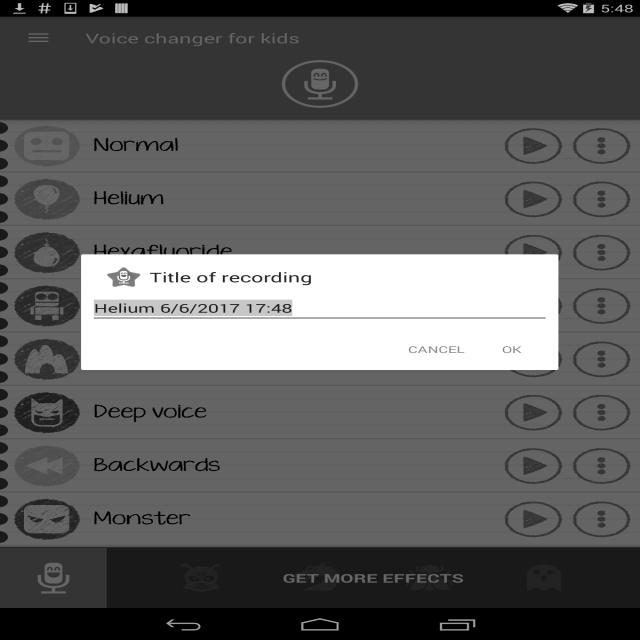EditText: (88, 301, 302, 315)
ImageButton: (566, 341, 638, 381), (26, 563, 102, 599), (506, 441, 564, 486), (499, 128, 562, 166), (501, 179, 565, 216), (498, 394, 563, 430), (571, 285, 628, 326), (504, 498, 564, 536), (573, 176, 630, 214), (573, 444, 630, 482), (576, 393, 637, 427), (576, 500, 629, 539), (576, 126, 628, 165), (506, 241, 570, 265), (578, 234, 626, 264), (26, 23, 52, 54)
ImageView: (278, 60, 386, 108), (17, 446, 90, 490), (8, 287, 78, 330), (10, 508, 84, 543), (7, 184, 79, 218), (14, 398, 84, 432), (13, 342, 74, 378), (22, 128, 71, 165), (22, 234, 61, 268)
TextView: (282, 567, 479, 597), (77, 30, 325, 47), (96, 239, 261, 263), (84, 398, 204, 426), (148, 270, 336, 287), (91, 451, 236, 473), (78, 506, 196, 533), (91, 130, 190, 160), (86, 182, 179, 208), (399, 339, 463, 357), (495, 344, 530, 359)
